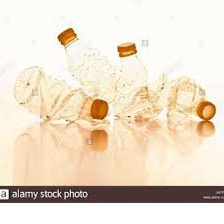bottle: (8, 60, 112, 126), (53, 25, 120, 110), (107, 39, 169, 123), (158, 67, 218, 128)
